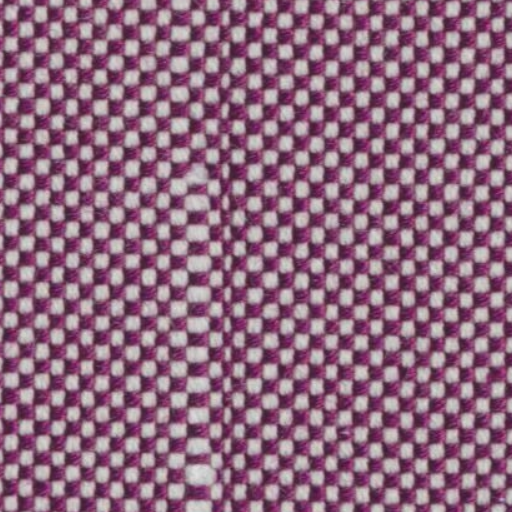TuoSha: (144, 2, 270, 504)
